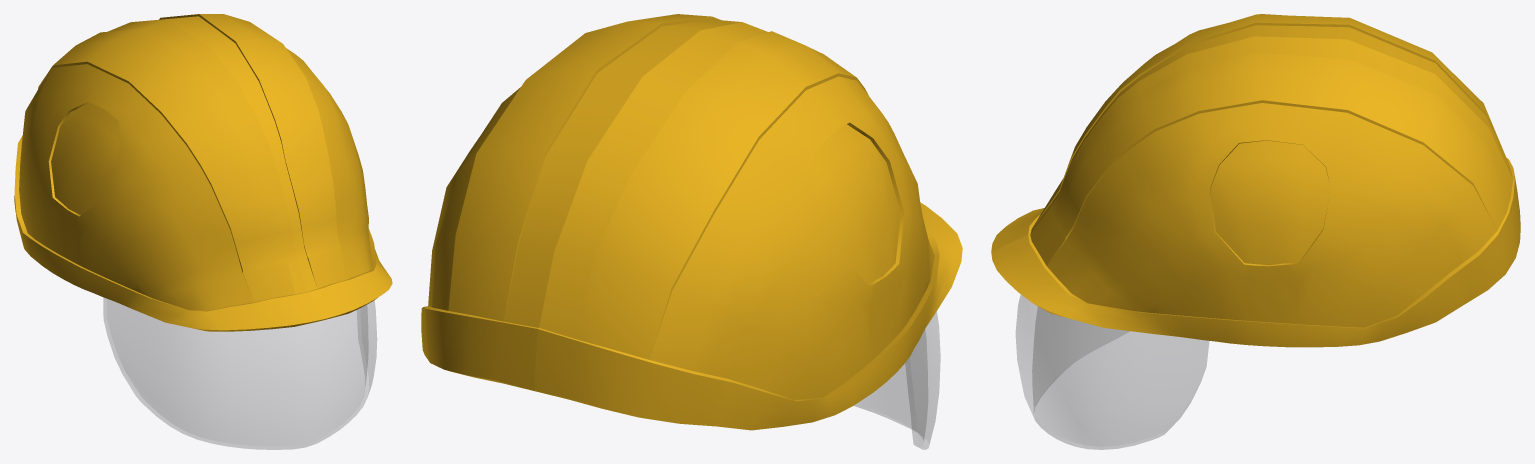
File: Elmetto.fbx
The picture shows the model from 3 angles, left to right: view 1: azimuth 30°, elevation 25°; view 2: azimuth 150°, elevation 25°; view 3: azimuth 270°, elevation 25°; orthographic projection. The views are drawn at different scales.
Parts seen in each view (by area): view 1: casco, visiera; view 2: casco, visiera; view 3: casco, visiera.
Part boxes in pixels (bbox=[...]): casco: bbox=[14, 14, 392, 331]; visiera: bbox=[103, 297, 376, 449]; casco: bbox=[421, 14, 962, 430]; visiera: bbox=[854, 311, 940, 449]; casco: bbox=[991, 14, 1520, 347]; visiera: bbox=[1016, 295, 1209, 449].
Size of the model in its own units: 15.69 by 17.23 by 21.85.
